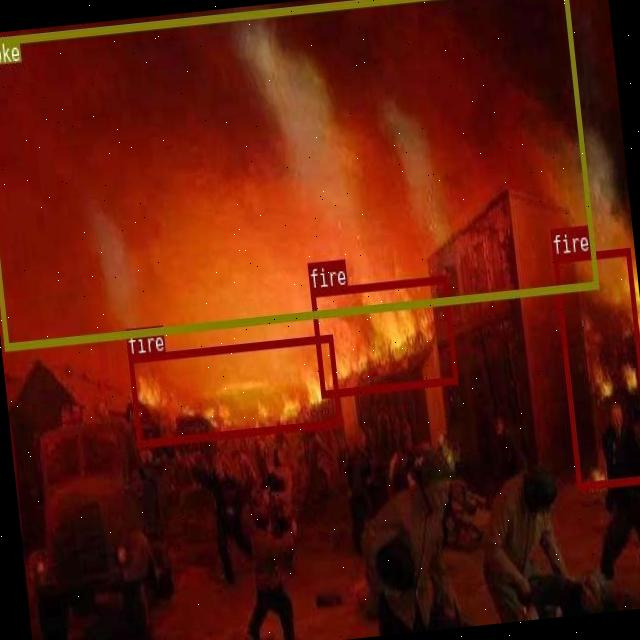fire: (128, 333, 341, 446), (552, 247, 640, 489), (309, 274, 456, 396)
smoke: (0, 0, 597, 349)
